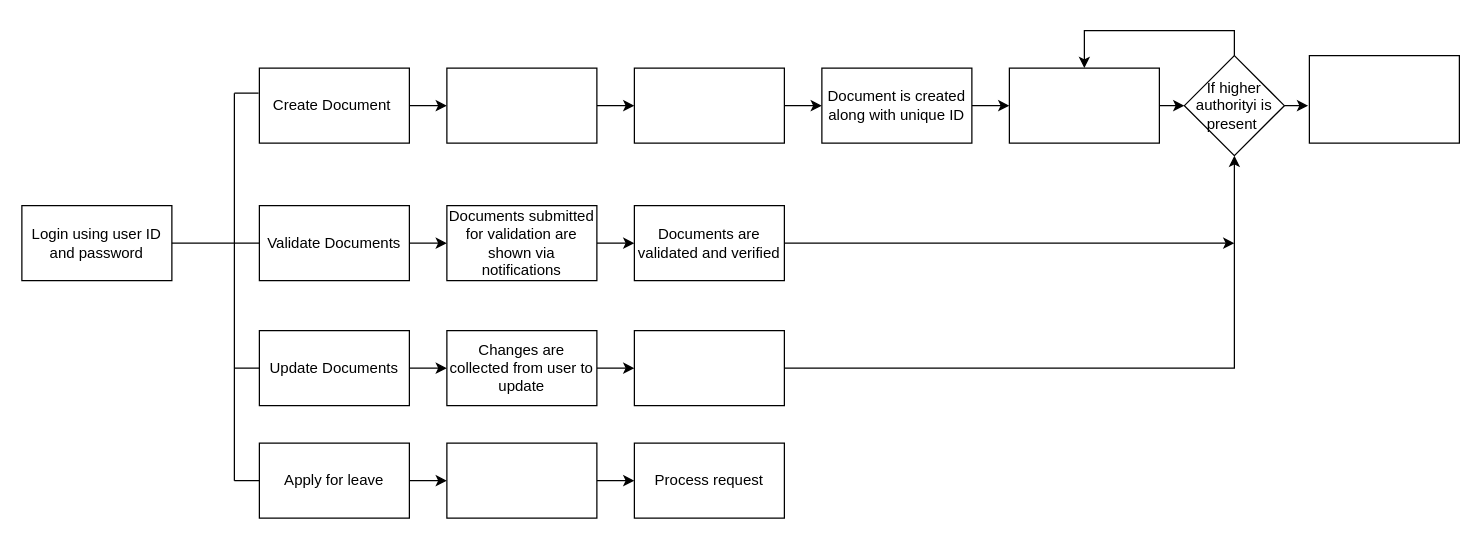
Some shapes in this 1481 by 540 pixel diagram are drawn without their labels. The shapes that lost their labels are listed below. From the top down, each one's centre as x and y in pixels, then its label:
(x=521, y=105): Select Document Type
(x=708, y=105): Enter Details required for document
(x=1083, y=105): document is sent for Validation
(x=1383, y=98): Unique QR code is created and placed in document after verification is completed
(x=708, y=367): Document is updated
(x=521, y=480): forward request to any high authority and HR
